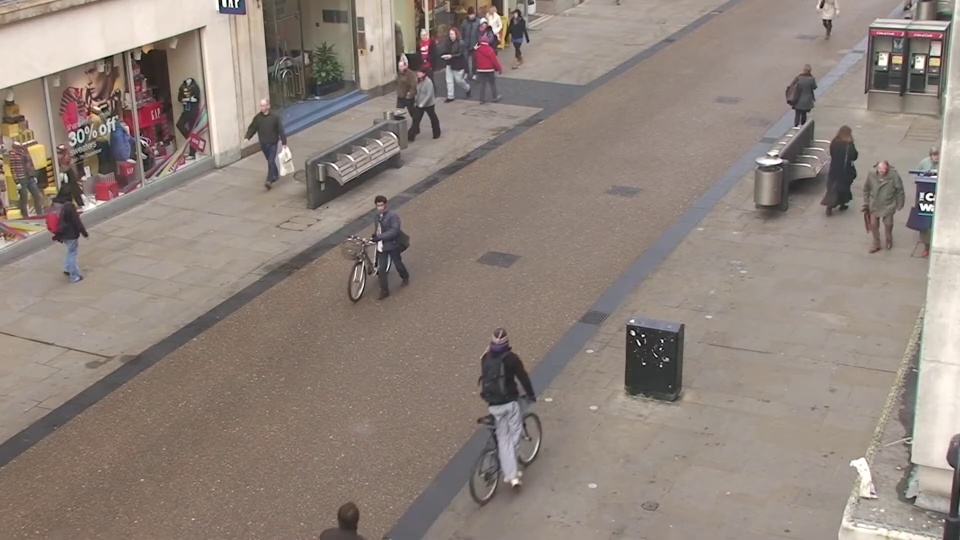pedestrian: (493, 308, 539, 454), (56, 176, 107, 285), (903, 145, 952, 252), (853, 158, 898, 267), (357, 192, 398, 308), (825, 116, 865, 213), (246, 100, 281, 189), (789, 59, 821, 141), (401, 64, 430, 145), (381, 59, 410, 139), (413, 31, 440, 103), (477, 31, 503, 103), (436, 27, 461, 97), (470, 18, 494, 86), (456, 9, 480, 74), (504, 7, 527, 72), (478, 4, 501, 68)
